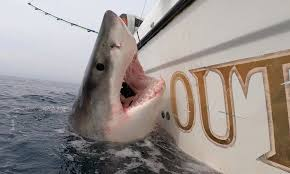shark: (62, 5, 175, 143)
